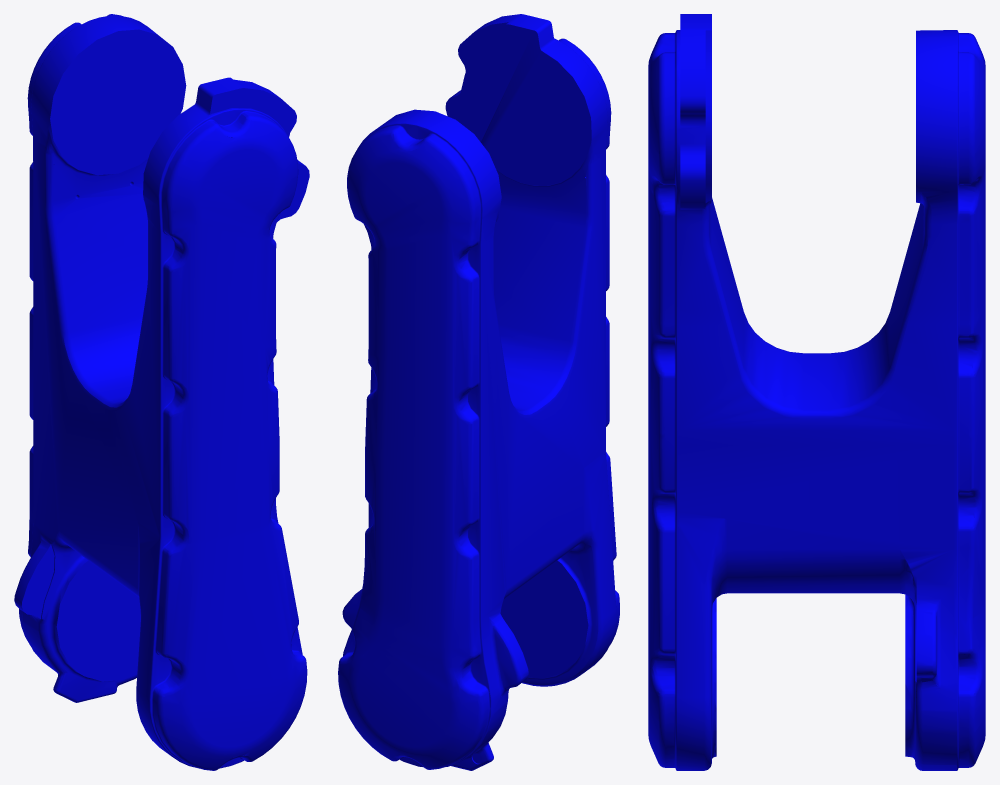
Rendered from MH5L_L_AXIS.dae.
3 renders of one model, left to right at view 1: azimuth 30°, elevation 25°; view 2: azimuth 150°, elevation 25°; view 3: azimuth 270°, elevation 25°, orthographic. The views are drawn at different scales.
Parts seen in each view (by area): view 1: node; view 2: node; view 3: node.
Part boxes in pixels (box(x1,y1,x2,y2)): node: box(14, 14, 309, 770); node: box(338, 14, 619, 770); node: box(648, 14, 985, 770).
Bounding box in the file's own units: 0.1518 × 0.22 × 0.539.
